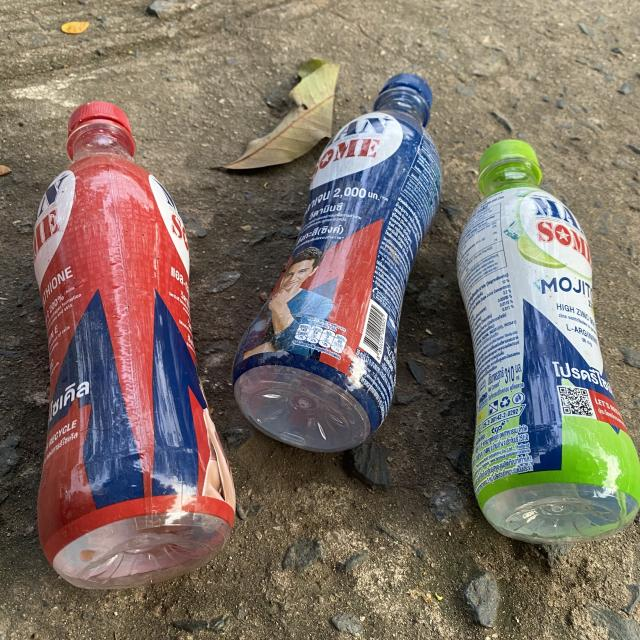plastik: (34, 101, 235, 589), (232, 74, 441, 451), (458, 140, 640, 544)
